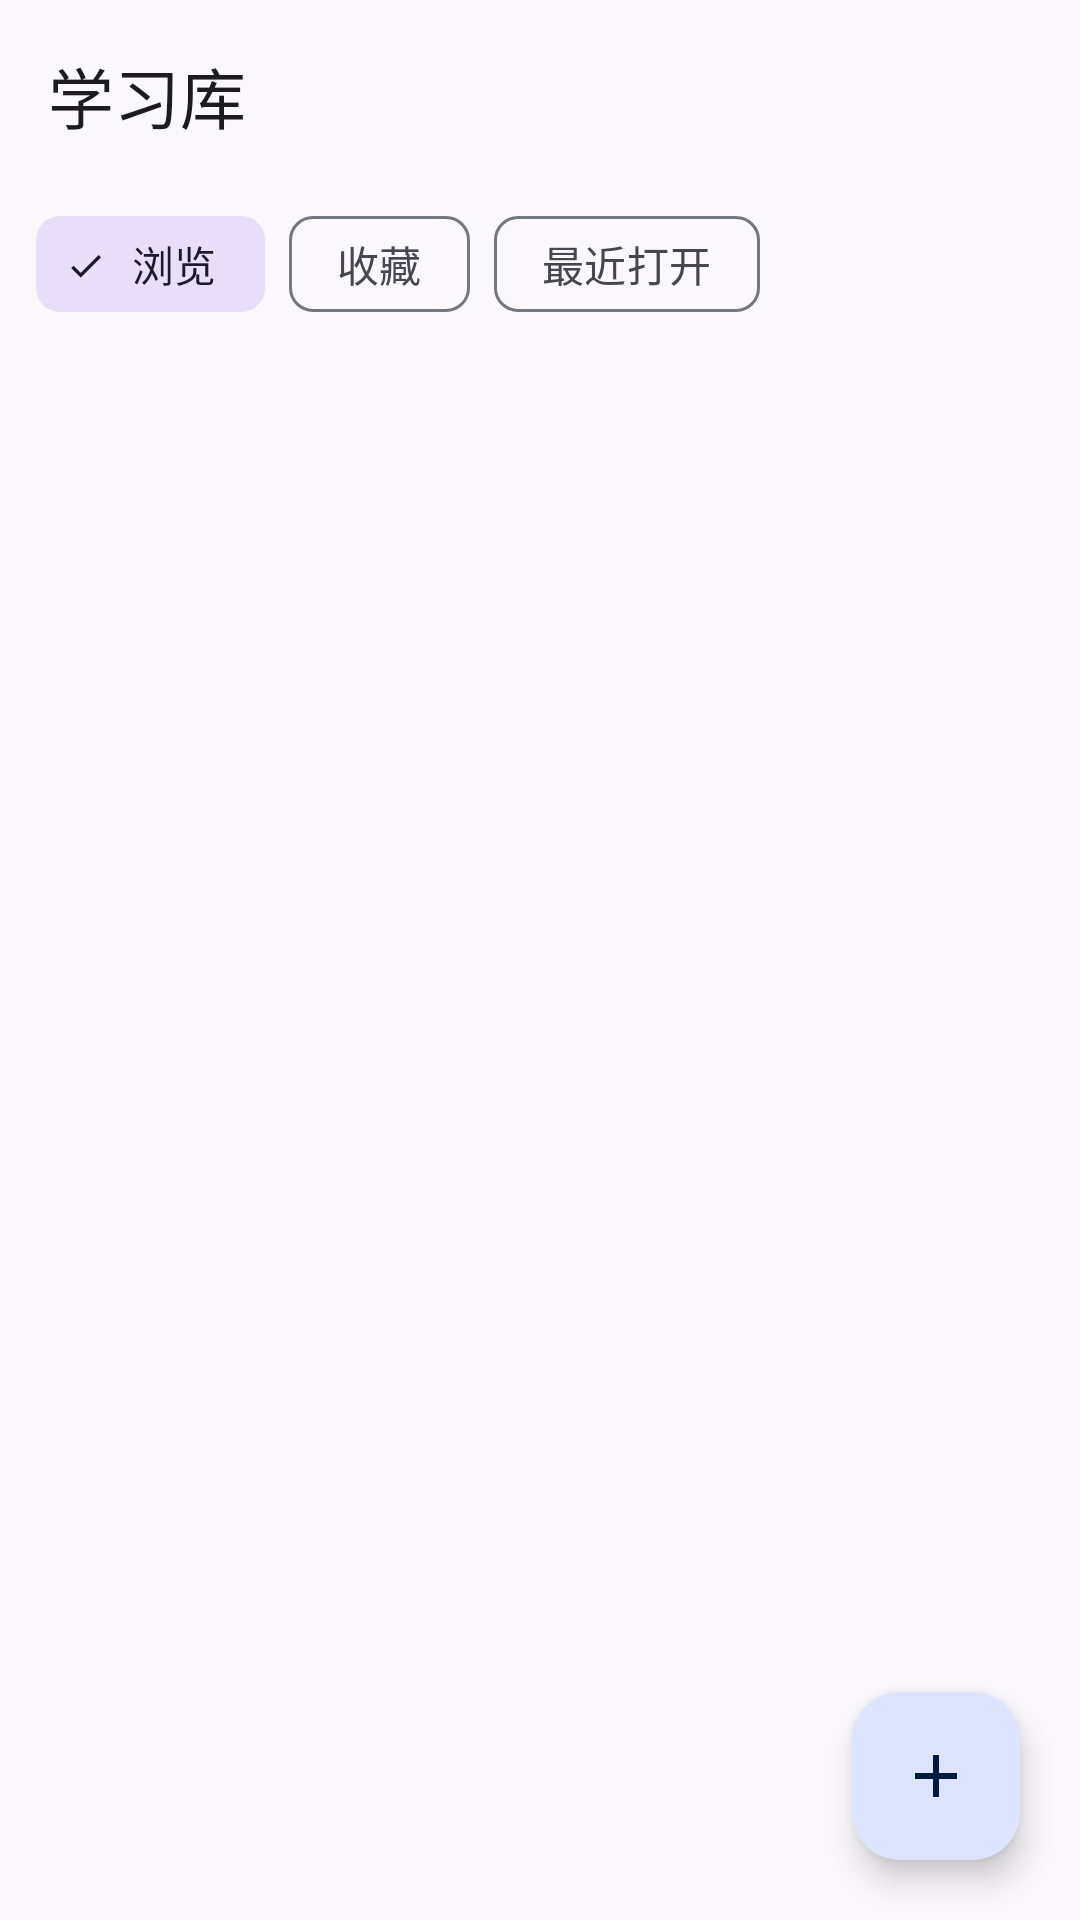

Icon bounding boxes for this 1080 x 1920 phone screenshot, format bbox(x1, y1, x2, y2):
添加到学习库: bbox(852, 1692, 1020, 1860)
